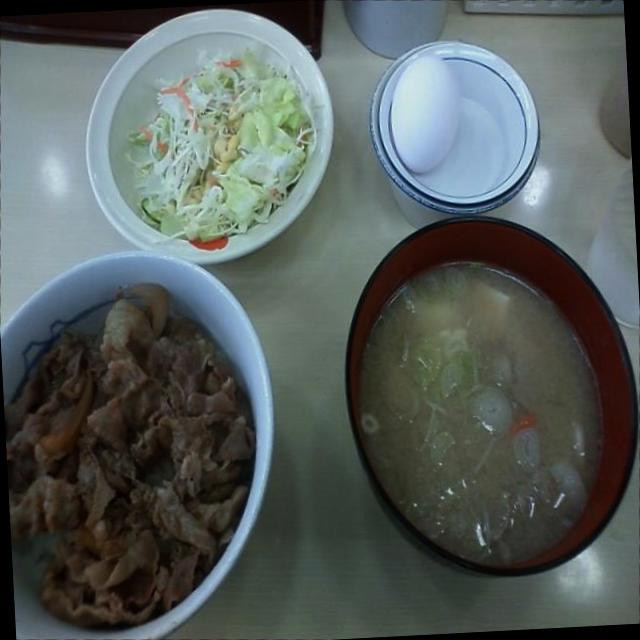Egg: (372, 46, 476, 188)
Green Salad: (128, 31, 332, 254)
